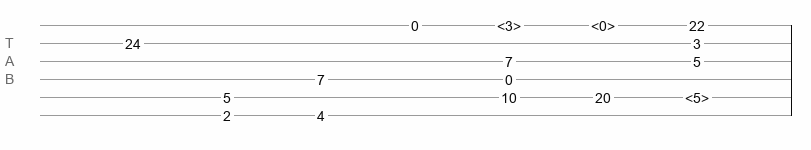0: (411, 18, 419, 28), (505, 72, 513, 82)
10: (501, 90, 517, 100)
2: (223, 108, 231, 118)
20: (595, 90, 611, 100)
22: (689, 18, 705, 28)
24: (125, 36, 141, 46)
3: (693, 36, 701, 46)
4: (317, 108, 325, 118)
5: (223, 90, 231, 100), (693, 54, 701, 64)
7: (317, 72, 325, 82), (505, 54, 513, 64)
harmonic: (497, 18, 521, 28), (591, 18, 615, 28), (685, 90, 709, 100)
